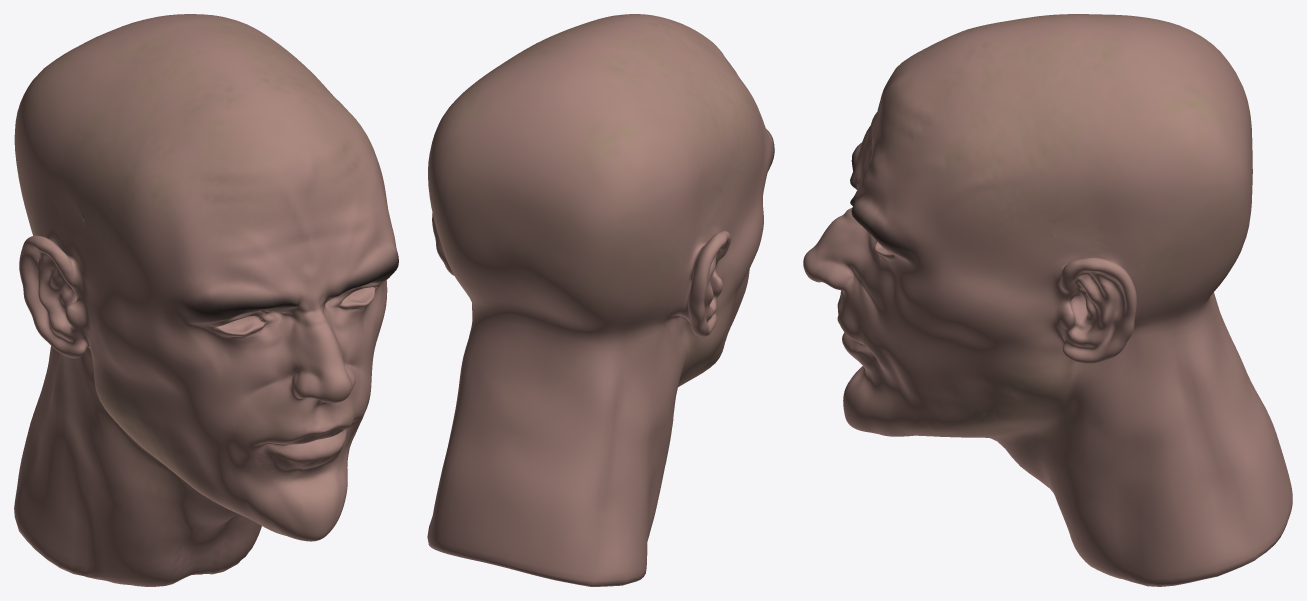
File: Head3.fbx
3 views of the same model, side by side, from view 1: azimuth 30°, elevation 25°; view 2: azimuth 150°, elevation 25°; view 3: azimuth 270°, elevation 25° (orthographic). The views are drawn at different scales.
Visible parts, largest first — view 1: head_30; view 2: head_30; view 3: head_30.
Part boxes in pixels (<box>): head_30: <box>14,14,398,586</box>; head_30: <box>427,14,774,586</box>; head_30: <box>803,14,1292,586</box>.
Size of the model in its own units: 1.24 by 2.11 by 1.78.
